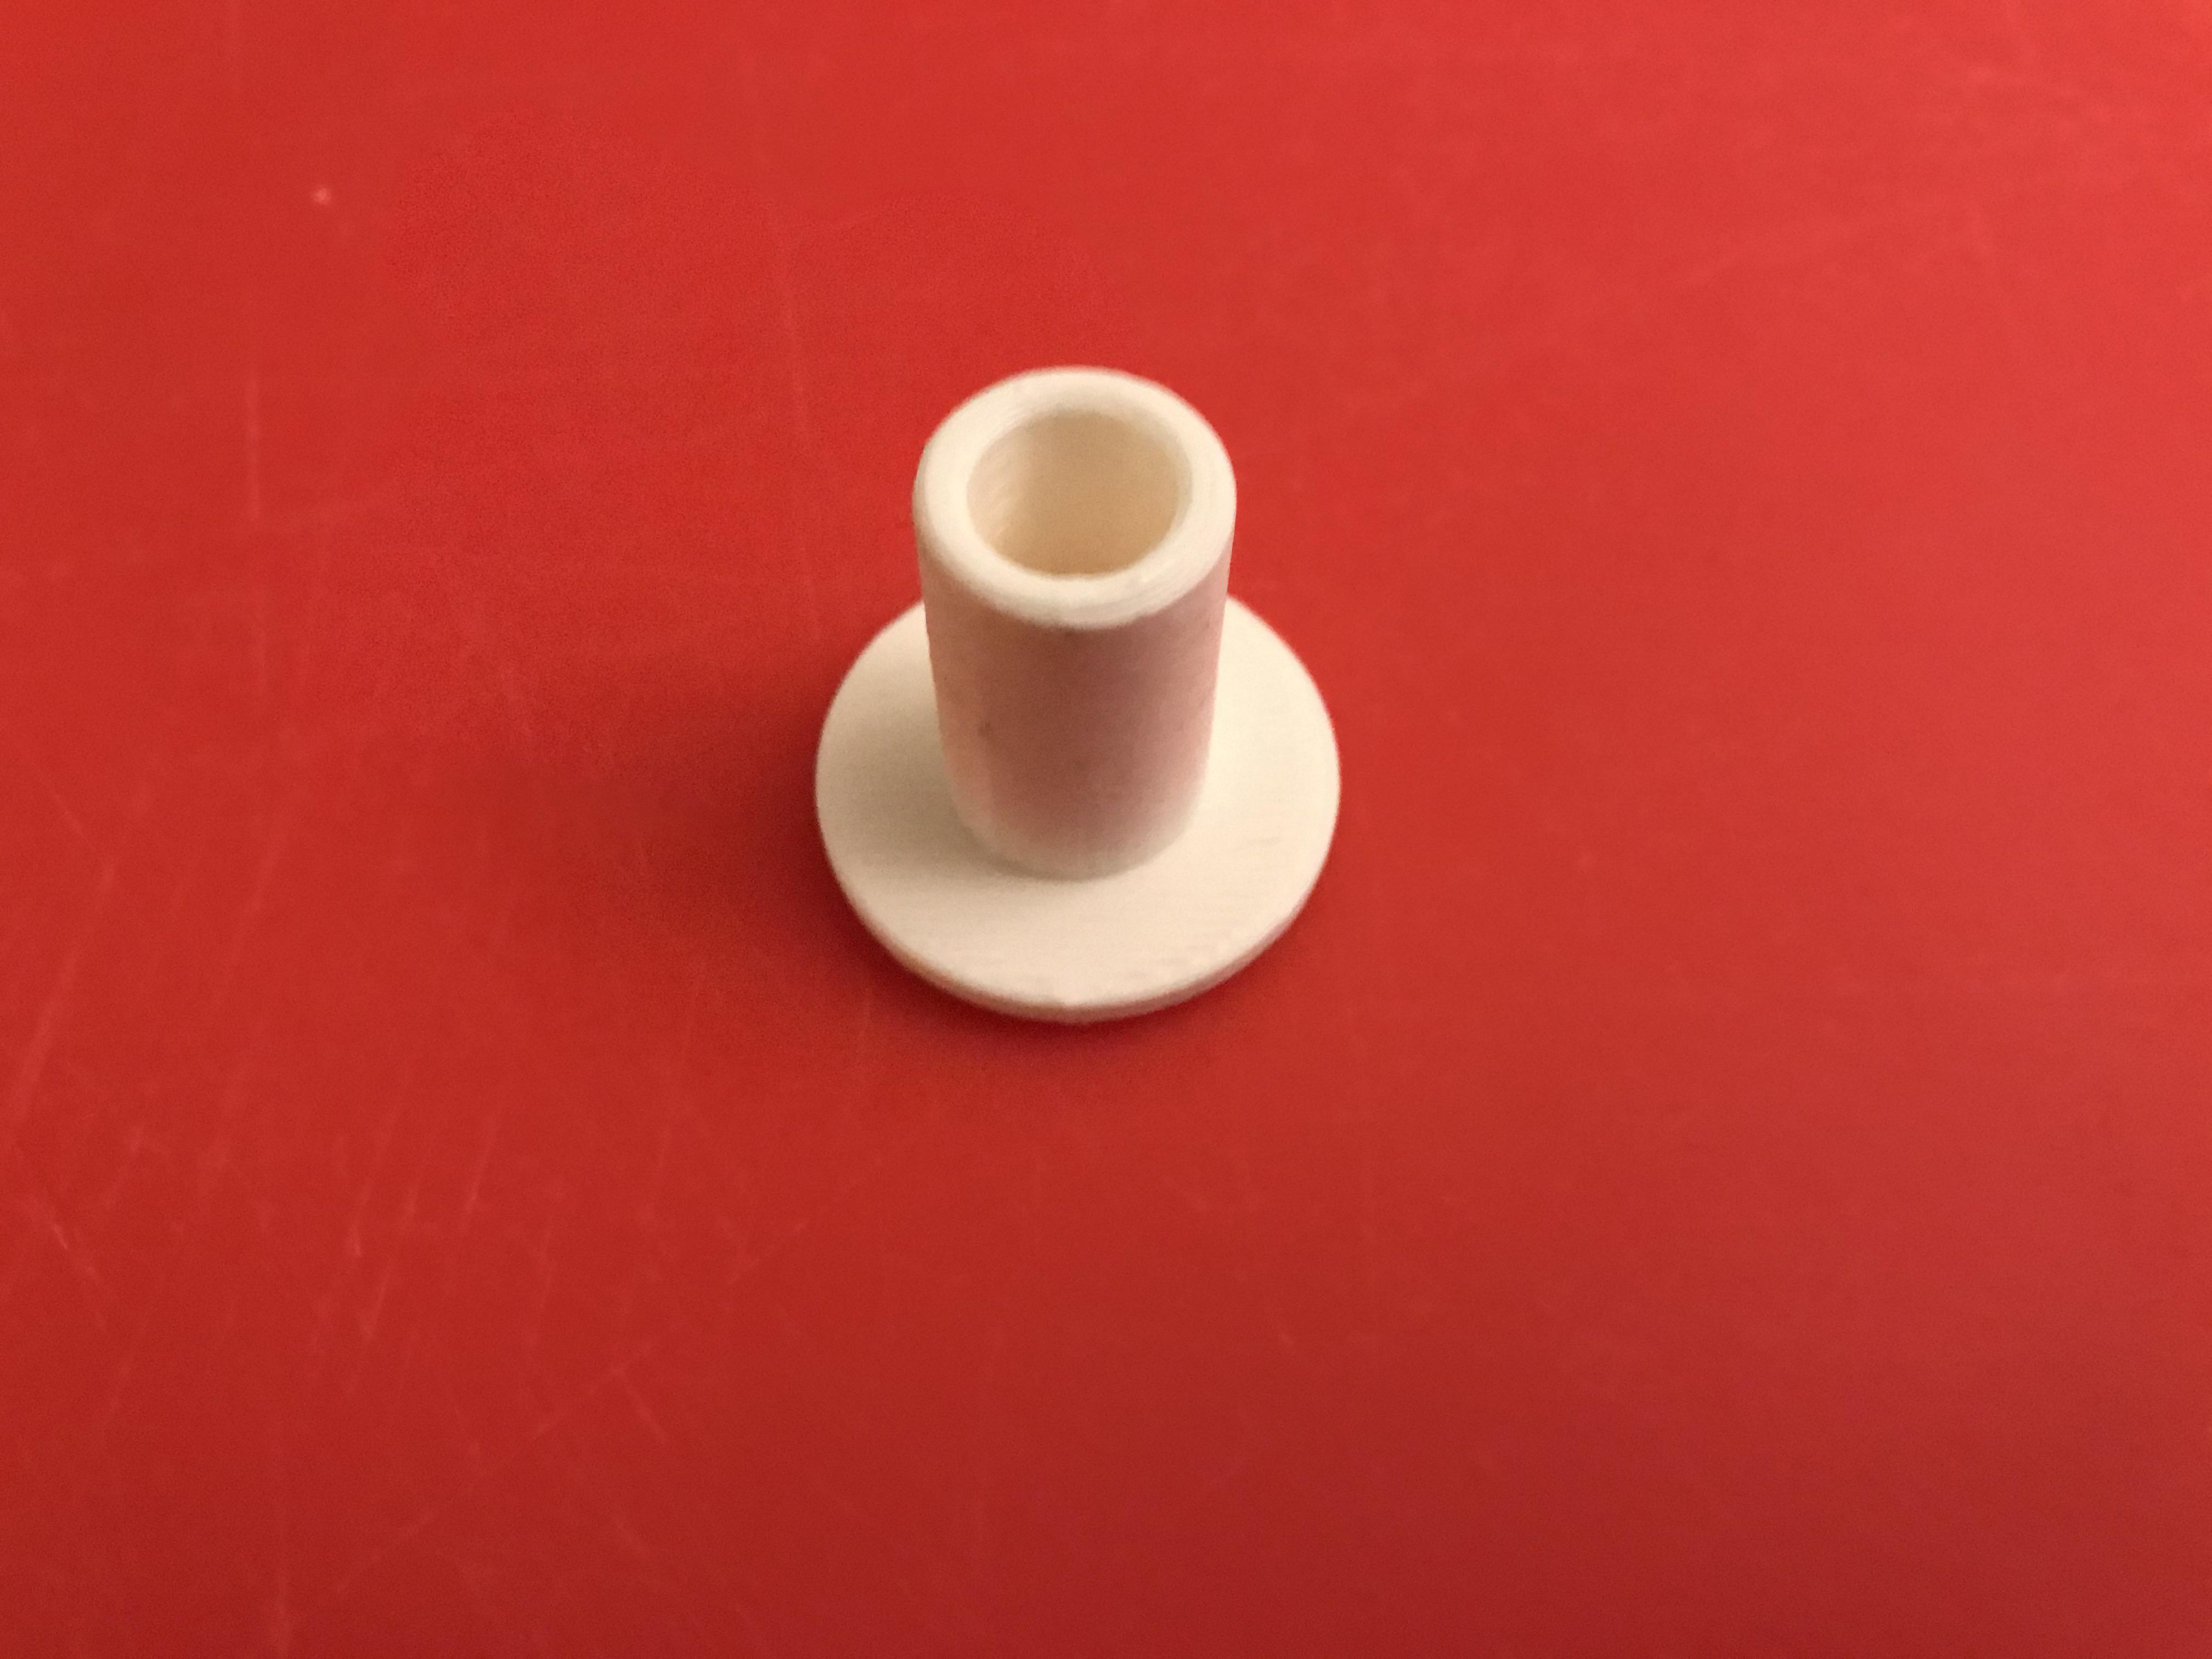White Cone: (786, 366, 1353, 1033)
